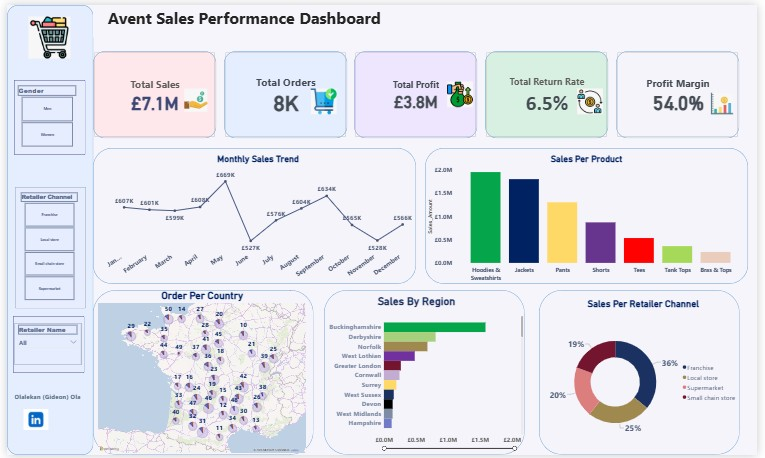

The page's visual inventory and layout, read from the dashboard file:
{"tool":"powerbi","page":{"name":"DASHBOARD","canvas":[2500,1500],"ordinal":0},"visuals":[{"type":"shape","box":[0,0,288,1500],"z":0},{"type":"shape","box":[288,153,411,291],"z":1000},{"type":"shape","box":[723,153,411,291],"z":2000},{"type":"shape","box":[1158,153,411,291],"z":3000},{"type":"shape","box":[1593,153,411,291],"z":4000},{"type":"shape","box":[2031,153,411,291],"z":5000},{"type":"shape","box":[288,477,1077,453],"z":6000},{"type":"shape","box":[1392,477,1077,453],"z":7000},{"type":"shape","box":[1773,951,669,549],"z":8000},{"type":"shape","box":[288,951,735,549],"z":9000},{"type":"textbox","box":[288,0,1104,108],"z":10000},{"type":"cardVisual","fields":{"Data":["Orders.Total Sales"]},"box":[288,153,411,291],"z":11000},{"type":"lineChart","title":"Monthly Sales Trend","fields":{"Y":["Sum(Orders.Sales_Amount)"],"Category":["Orders.Order_Date.Variation.Date Hierarchy.Year","Orders.Order_Date.Variation.Date Hierarchy.Quarter","Orders.Order_Date.Variation.Date Hierarchy.Month","Orders.Order_Date.Variation.Date Hierarchy.Day","Orders.Order_Date Hierarchy.Order_Date"]},"box":[318,498,1041,432],"z":12000},{"type":"cardVisual","fields":{"Data":["Orders.Total Orders"]},"box":[723,153,411,291],"z":13000},{"type":"cardVisual","fields":{"Data":["Orders.Profit Margin"]},"box":[2031,153,411,291],"z":14000},{"type":"cardVisual","fields":{"Data":["Orders.Total Return Rate"]},"box":[1593,153,411,291],"z":15000},{"type":"cardVisual","fields":{"Data":["Orders.Total Profit"]},"box":[1158,153,411,291],"z":16000},{"type":"columnChart","title":"Sales Per Product","fields":{"Y":["Sum(Orders.Sales_Amount)"],"Category":["Products.Product_Category"]},"box":[1392,498,1077,432],"z":17000},{"type":"map","title":"Order Per Country","fields":{"Series":["Retailers.Country"],"Size":["Orders.Total Orders"],"Category":["Orders.Order_Quantity"]},"box":[300,951,702,549],"z":18000},{"type":"donutChart","title":"Sales Per Retailer Channel","fields":{"Category":["Retailers.Retailer_Channel"],"Y":["Sum(Orders.Sales_Amount)"]},"box":[1800,975,642,525],"z":19000},{"type":"shape","box":[20,1035,238.3,190],"z":20000},{"type":"textbox","box":[21,1287,237,78],"z":21000},{"type":"shape","box":[23.3,248.3,238.3,250],"z":22000},{"type":"shape","box":[25,606.7,236.7,405],"z":23000},{"type":"image","box":[51,1335,93,90],"z":24000},{"type":"image","box":[23.3,33.3,236.7,150],"z":25000},{"type":"shape","box":[1056,951,669,549],"z":26000},{"type":"image","box":[1449,249,120,96],"z":27000},{"type":"image","box":[561,273,138,87],"z":28000},{"type":"image","box":[996,273,117,96],"z":29000},{"type":"image","box":[1884,273,120,96],"z":30000},{"type":"image","box":[2322,285,120,84],"z":31000},{"type":"clusteredBarChart","title":"Sales By Region","fields":{"Category":["Retailers.Region"],"Y":["Sum(Orders.Sales_Amount)"]},"box":[1002,966,723,522],"z":32000},{"type":"slicer","fields":{"Values":["Products.Product_Gender"]},"box":[23.3,261.7,220,215],"z":32001},{"type":"slicer","fields":{"Values":["Retailers.Retailer_Name"]},"box":[23.3,1060,225,140],"z":32002},{"type":"slicer","fields":{"Values":["Retailers.Retailer_Channel"]},"box":[33.3,620,215,370],"z":32003}]}

Visuals, with their boxes in screenshot pixels (x1, y1, x2, y2), scaled from the page's 2500x1500 canvas onto the 765x458 screenshot:
shape: box(0, 0, 88, 457)
shape: box(88, 47, 214, 136)
shape: box(221, 47, 347, 136)
shape: box(354, 47, 480, 136)
shape: box(487, 47, 613, 136)
shape: box(621, 47, 747, 136)
shape: box(88, 146, 418, 284)
shape: box(426, 146, 756, 284)
shape: box(543, 290, 747, 457)
shape: box(88, 290, 313, 457)
textbox: box(88, 0, 426, 33)
cardVisual - Orders.Total Sales: box(88, 47, 214, 136)
"Monthly Sales Trend" lineChart: box(97, 152, 416, 284)
cardVisual - Orders.Total Orders: box(221, 47, 347, 136)
cardVisual - Orders.Profit Margin: box(621, 47, 747, 136)
cardVisual - Orders.Total Return Rate: box(487, 47, 613, 136)
cardVisual - Orders.Total Profit: box(354, 47, 480, 136)
"Sales Per Product" columnChart: box(426, 152, 756, 284)
"Order Per Country" map: box(92, 290, 307, 457)
"Sales Per Retailer Channel" donutChart: box(551, 298, 747, 457)
shape: box(6, 316, 79, 374)
textbox: box(6, 393, 79, 417)
shape: box(7, 76, 80, 152)
shape: box(8, 185, 80, 309)
image: box(16, 408, 44, 435)
image: box(7, 10, 80, 56)
shape: box(323, 290, 528, 457)
image: box(443, 76, 480, 105)
image: box(172, 83, 214, 110)
image: box(305, 83, 341, 113)
image: box(577, 83, 613, 113)
image: box(711, 87, 747, 113)
"Sales By Region" clusteredBarChart: box(307, 295, 528, 454)
slicer - Products.Product_Gender: box(7, 80, 74, 146)
slicer - Retailers.Retailer_Name: box(7, 324, 76, 366)
slicer - Retailers.Retailer_Channel: box(10, 189, 76, 302)
